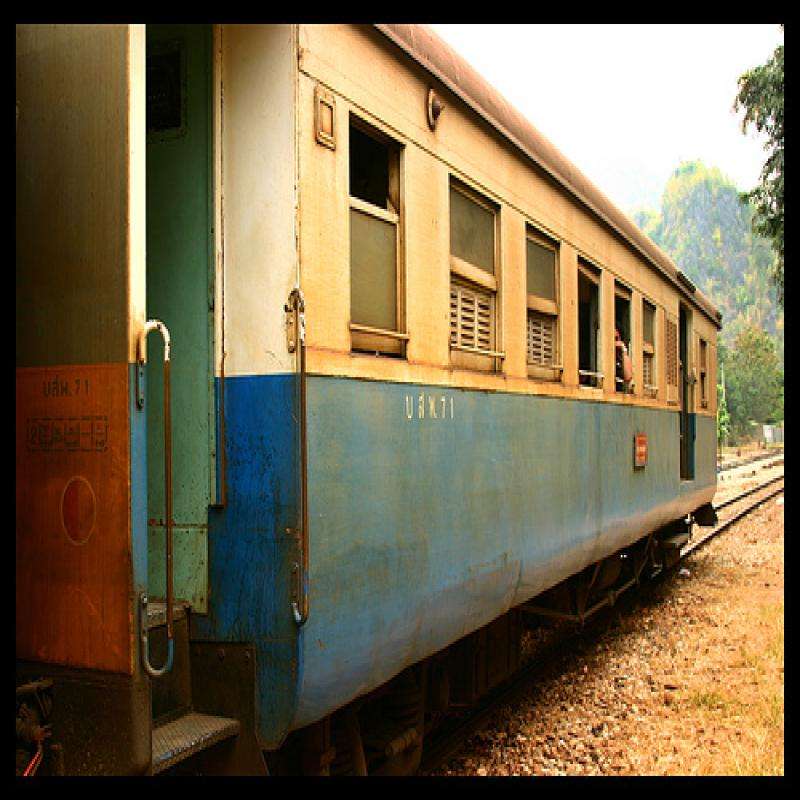train: (16, 25, 725, 779)
